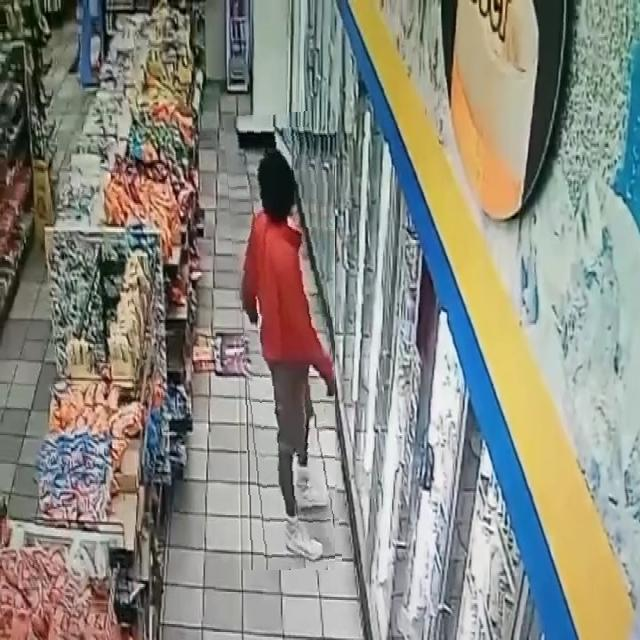Normal: (231, 112, 335, 570)
